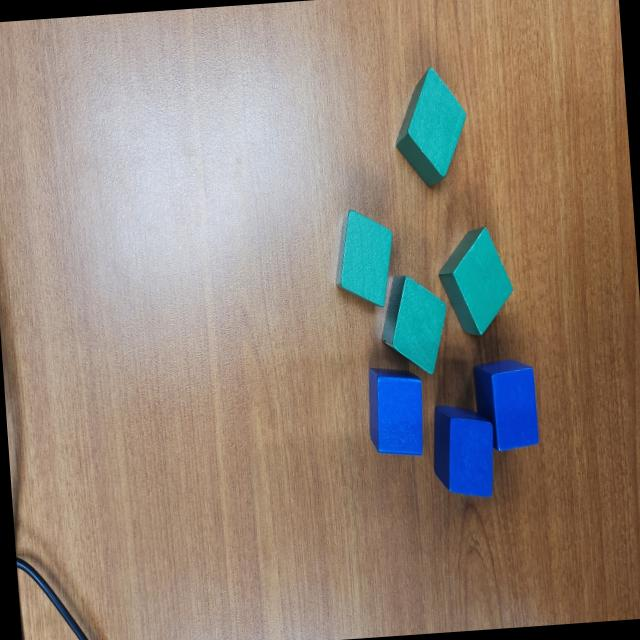blue: (428, 400, 499, 502), (472, 356, 540, 452), (366, 364, 426, 460)
green: (388, 66, 471, 188), (434, 225, 514, 338), (378, 272, 451, 378), (330, 204, 400, 309)
